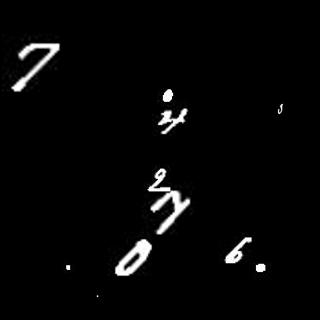dot: (253, 262, 271, 276), (65, 263, 75, 271), (94, 289, 101, 298)
five: (274, 101, 287, 116)
four: (156, 104, 193, 136)
seven: (9, 39, 64, 95), (149, 191, 193, 235)
six: (223, 233, 253, 266)
two: (147, 167, 175, 193)
zero: (111, 238, 155, 276), (162, 84, 179, 104)
